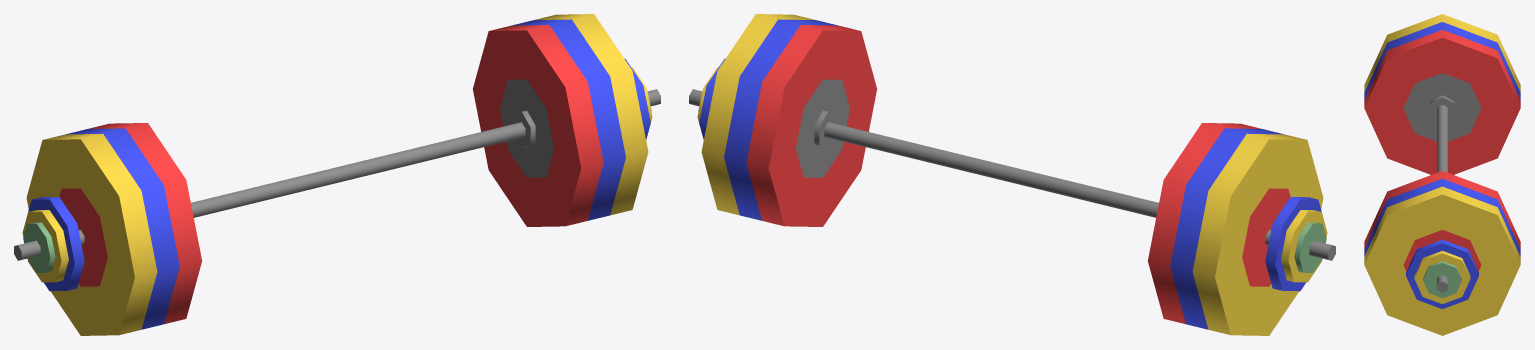
The model's file is Barbell.fbx.
3 renders of one model, left to right at view 1: azimuth 30°, elevation 25°; view 2: azimuth 150°, elevation 25°; view 3: azimuth 270°, elevation 25°, orthographic. The views are drawn at different scales.
Parts seen in each view (by area): view 1: Barbell; view 2: Barbell; view 3: Barbell.
Boxes of the visible parts, x1,y1,x2,y2 form: Barbell: (14, 14, 660, 335); Barbell: (689, 14, 1335, 335); Barbell: (1364, 14, 1520, 335).
Size of the model in its own units: 2.31 by 0.6807 by 0.6807.
1 material, 1 textured.
